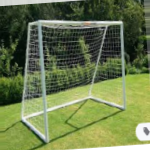goals: (19, 17, 129, 143)
